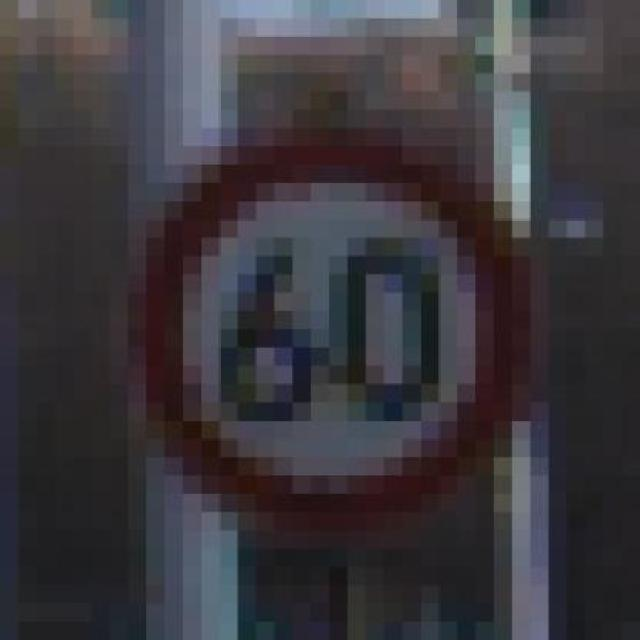forb_speed_over_60: (152, 149, 506, 515)
